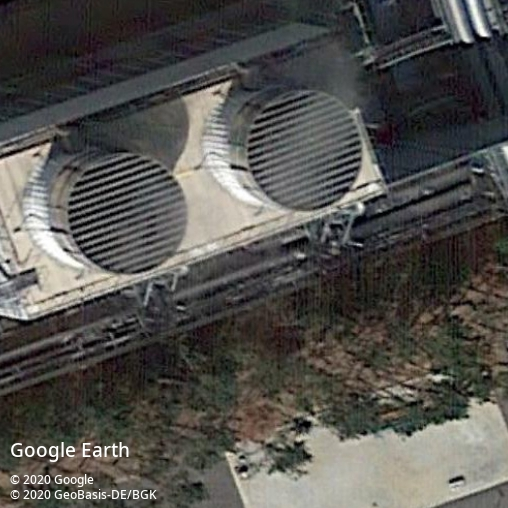Vent: (68, 152, 188, 276), (247, 88, 363, 212)
